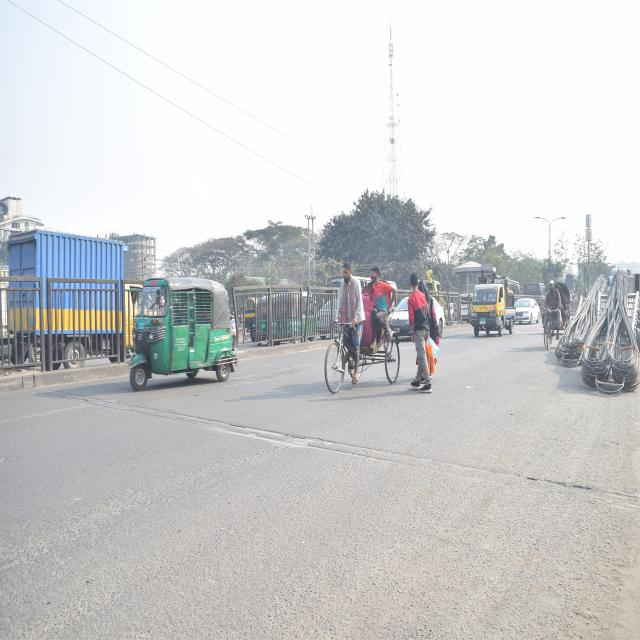car: (390, 295, 450, 346), (517, 290, 544, 332)
pickup-van: (0, 216, 139, 377), (465, 278, 519, 340)
